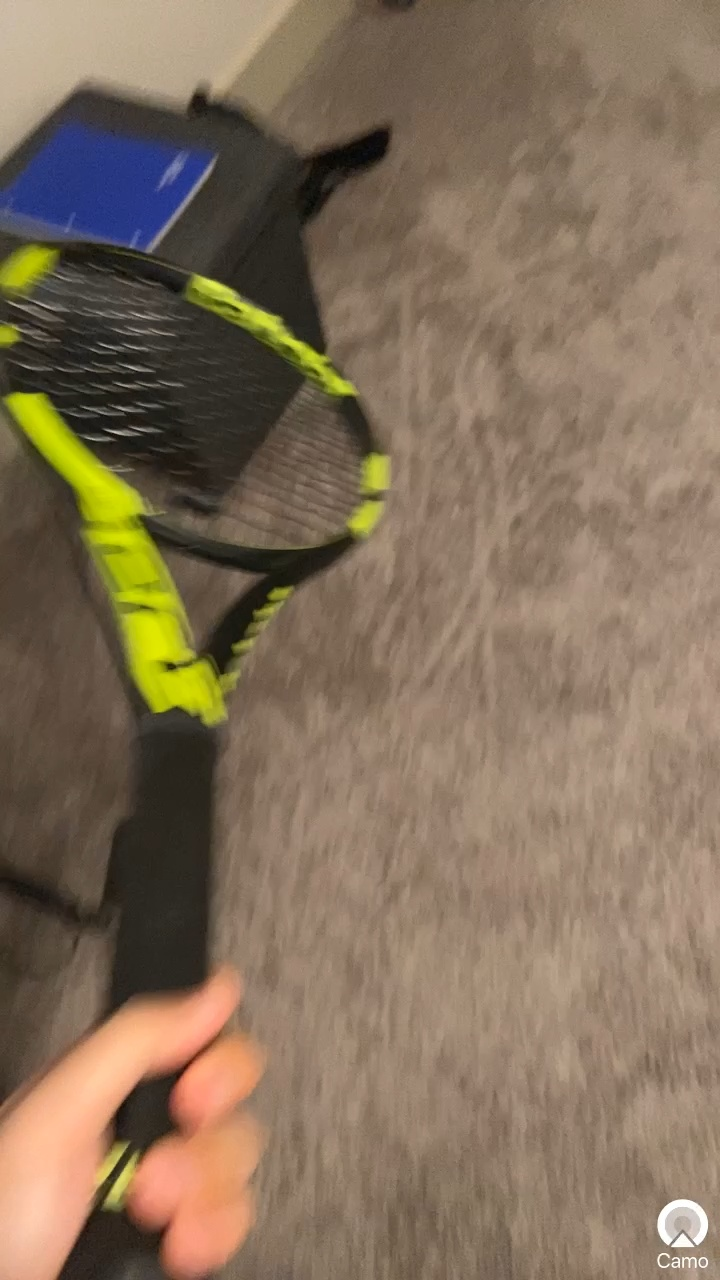Tennis_Racquet: (1, 233, 425, 1275)
